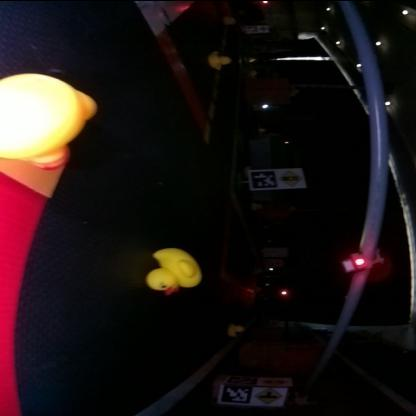Duckie: (2, 72, 98, 169), (149, 245, 202, 293), (208, 49, 232, 69), (228, 323, 246, 335)
Intersection sign: (256, 388, 284, 404)
QR code: (223, 384, 253, 402), (252, 170, 278, 186), (227, 375, 259, 383)
Signal sign: (280, 168, 304, 186), (263, 376, 290, 384)
Traffic light: (344, 252, 381, 272)
